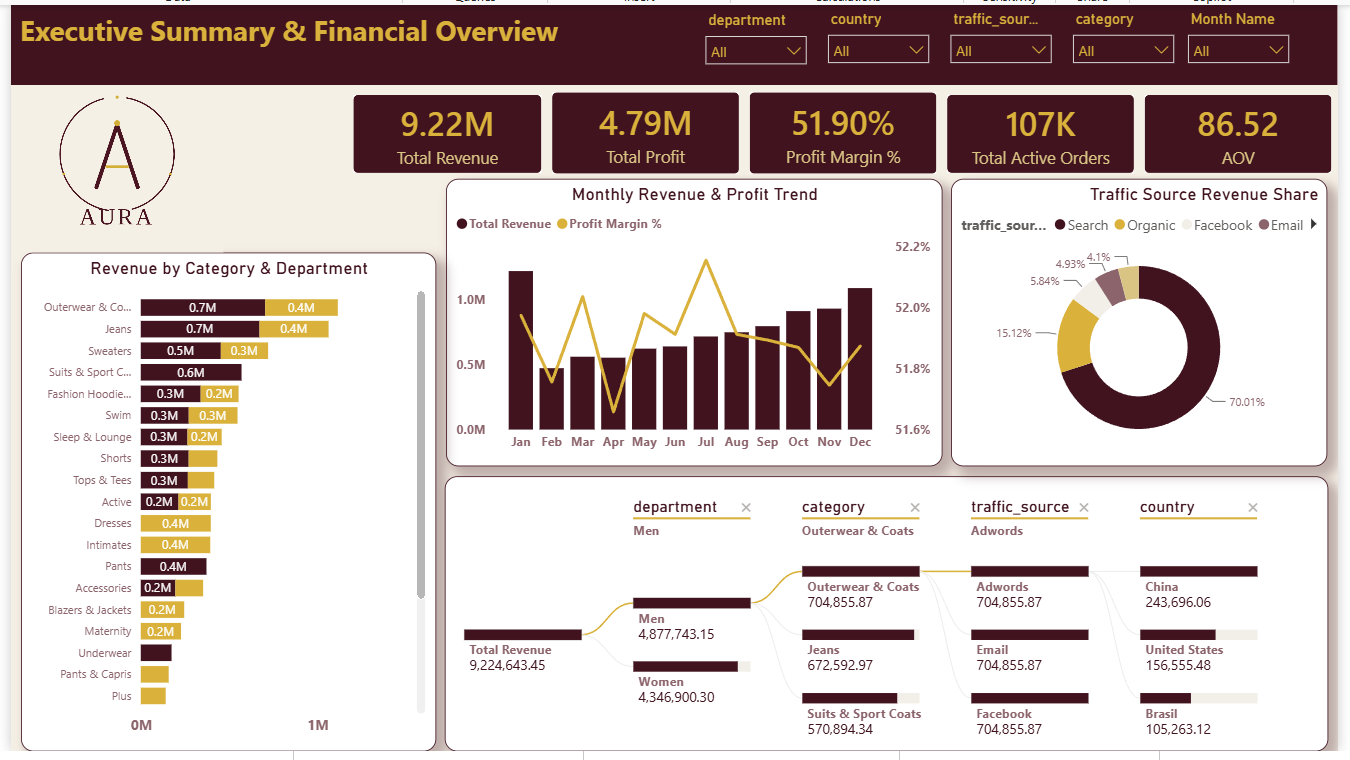

The dashboard page shown, as its layout file describes it:
{"tool":"powerbi","page":{"name":"Executive Summary & Financial Overview","canvas":[1280,720],"ordinal":0},"visuals":[{"type":"cardVisual","fields":{"Data":["Key_Measures.Profit Margin %"]},"box":[708.2,79.6,190.6,88.1],"z":0},{"type":"cardVisual","fields":{"Data":["Key_Measures.Total Profit"]},"box":[517.6,79.6,190.6,88.1],"z":1000},{"type":"cardVisual","fields":{"Data":["Key_Measures.Total Revenue"]},"box":[325.7,82,191.8,85.7],"z":2000},{"type":"cardVisual","fields":{"Data":["Key_Measures.Total Active Orders"]},"box":[898.8,82,190.6,85.7],"z":3000},{"type":"cardVisual","fields":{"Data":["Key_Measures.AOV"]},"box":[1089.4,82,190.6,85.7],"z":4000},{"type":"shape","box":[0,0,1280,77.2],"z":5000},{"type":"lineStackedColumnComboChart","title":"Monthly Revenue & Profit Trend ","fields":{"Y":["Key_Measures.Total Revenue"],"Y2":["Key_Measures.Profit Margin %"],"Category":["Dim_Date.Month Name"]},"box":[419.8,167.7,479,277.5],"z":6000},{"type":"barChart","title":"Revenue by Category & Department","fields":{"Category":["Dim_Products.category"],"Y":["Key_Measures.Total Revenue"],"Series":["Dim_Products.department"]},"box":[10,239.3,399.6,473.1],"z":7000},{"type":"decompositionTreeVisual","fields":{"Analyze":["Key_Measures.Total Revenue"],"ExplainBy":["Dim_Products.department","Dim_Products.category","Fact_Events.traffic_source","Dim_Users.country"]},"box":[418.6,455.3,852.7,257.1],"z":8000},{"type":"slicer","fields":{"Values":["Dim_Date.Month Name"]},"box":[1125.6,0,118.2,57.9],"z":9000},{"type":"image","box":[0,77.2,205.1,161.7],"z":10000},{"type":"textbox","box":[0,1.2,579.1,61.5],"z":11000},{"type":"slicer","fields":{"Values":["Dim_Products.category"]},"box":[1014.6,0,118.2,67.6],"z":12000},{"type":"slicer","fields":{"Values":["Fact_Events.traffic_source"]},"box":[876.1,0,126.9,60.1],"z":13000},{"type":"slicer","fields":{"Values":["Dim_Users.country"]},"box":[758.1,0,118,70.1],"z":14000},{"type":"slicer","fields":{"Values":["Dim_Products.department"]},"box":[640.1,0,118,67.9],"z":15000},{"type":"donutChart","title":"Traffic Source Revenue Share","fields":{"Y":["Key_Measures.Total Revenue"],"Category":["Dim_Users.traffic_source"]},"box":[907.2,167.7,363.1,277.5],"z":16000}]}

Visuals, with their boxes in screenshot pixels (x1, y1, x2, y2), scaled from the page's 1280x720 canvas onto the 1350x760 screenshot:
cardVisual - Key_Measures.Profit Margin %: (747,84,948,177)
cardVisual - Key_Measures.Total Profit: (546,84,747,177)
cardVisual - Key_Measures.Total Revenue: (344,87,546,177)
cardVisual - Key_Measures.Total Active Orders: (948,87,1149,177)
cardVisual - Key_Measures.AOV: (1149,87,1349,177)
shape: (0,0,1349,81)
"Monthly Revenue & Profit Trend " lineStackedColumnComboChart: (443,177,948,470)
"Revenue by Category & Department" barChart: (11,253,432,752)
decompositionTreeVisual - Key_Measures.Total Revenue x Dim_Products.department: (441,481,1341,752)
slicer - Dim_Date.Month Name: (1187,0,1312,61)
image: (0,81,216,252)
textbox: (0,1,611,66)
slicer - Dim_Products.category: (1070,0,1195,71)
slicer - Fact_Events.traffic_source: (924,0,1058,63)
slicer - Dim_Users.country: (800,0,924,74)
slicer - Dim_Products.department: (675,0,800,72)
"Traffic Source Revenue Share" donutChart: (957,177,1340,470)
